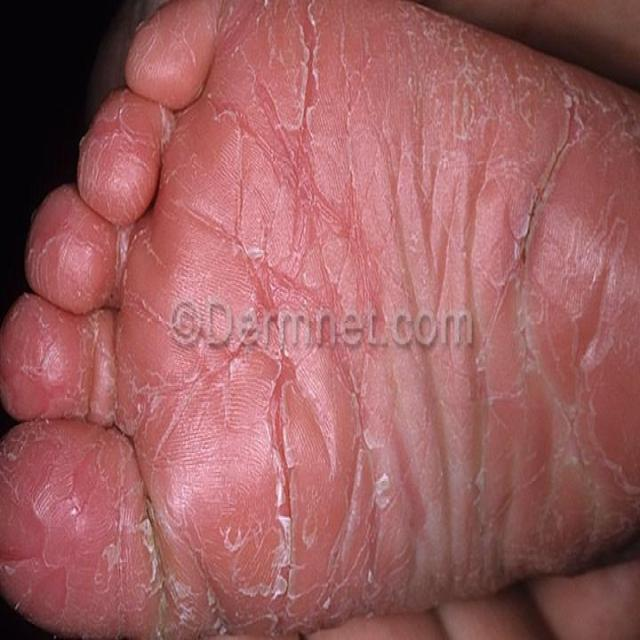Eczema: (13, 0, 639, 630)
